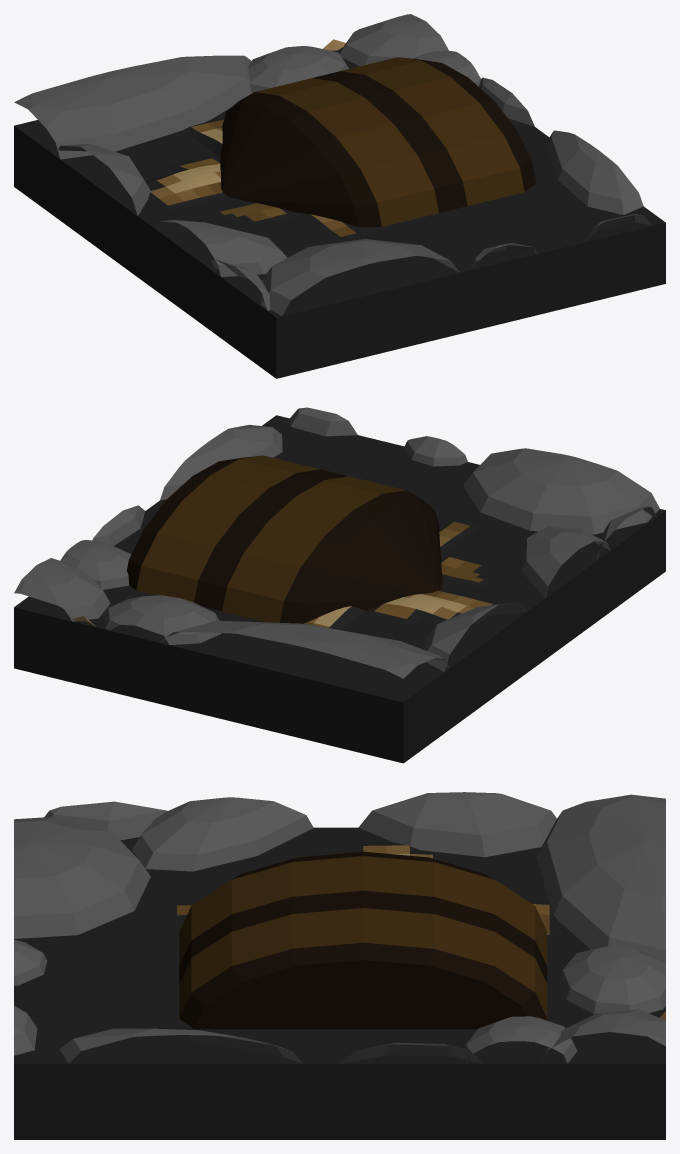
The picture shows the model from 3 angles, top to bottom: view 1: azimuth 30°, elevation 25°; view 2: azimuth 150°, elevation 25°; view 3: azimuth 270°, elevation 25°; orthographic projection. The views are drawn at different scales.
Parts seen in each view (by area): view 1: shapesz-t199; view 2: shapesz-t199; view 3: shapesz-t199.
Boxes of the visible parts, bbox=[...] form: shapesz-t199: bbox=[14, 14, 665, 378]; shapesz-t199: bbox=[14, 407, 665, 763]; shapesz-t199: bbox=[14, 792, 665, 1139].
Size of the model in its own units: 2 by 0.64 by 2.33.
